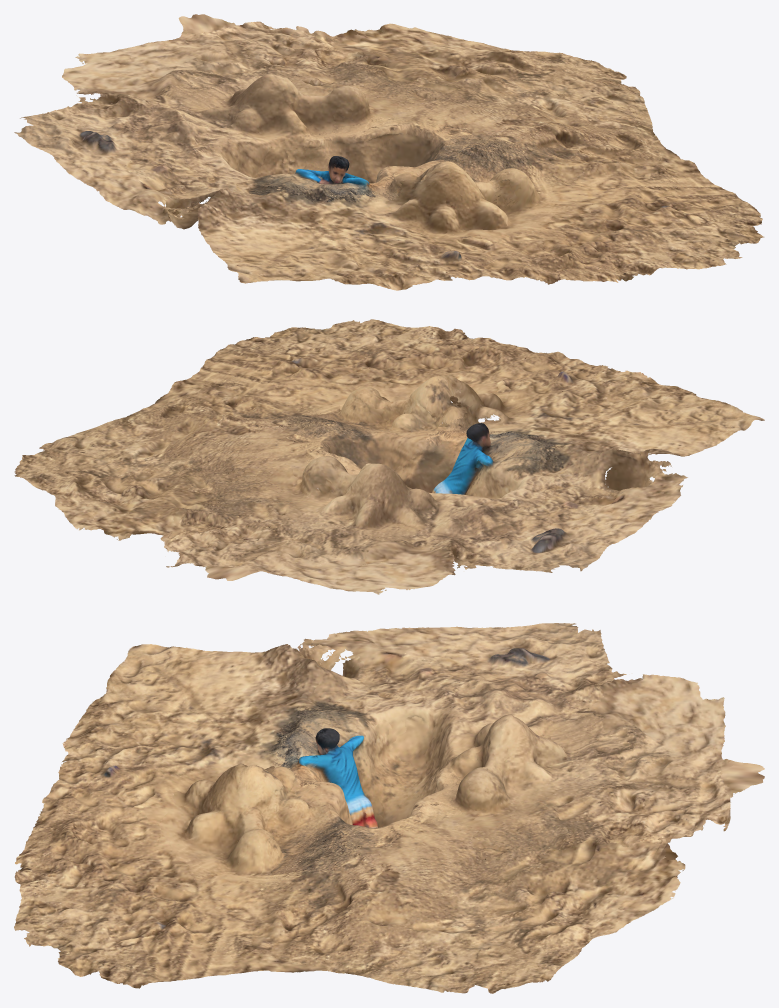
The model's file is digging_in_the_sand.glb.
3 views of the same model, one above another, from view 1: azimuth 30°, elevation 25°; view 2: azimuth 150°, elevation 25°; view 3: azimuth 270°, elevation 25° (orthographic). The views are drawn at different scales.
Parts seen in each view (by area): view 1: Object_2, Object_3; view 2: Object_2, Object_3; view 3: Object_2, Object_3.
Part boxes in pixels (box(x1,y1,x2,y2)): Object_2: box(14, 14, 764, 290); Object_3: box(56, 68, 617, 284); Object_2: box(14, 319, 764, 594); Object_3: box(185, 351, 703, 559); Object_2: box(14, 623, 764, 993); Object_3: box(42, 626, 645, 942).
Size of the model in its own units: 5.35 by 1.21 by 5.5.
1 material, 1 textured.
